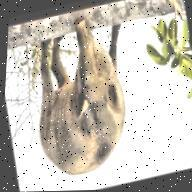boar: (12, 8, 150, 185)
